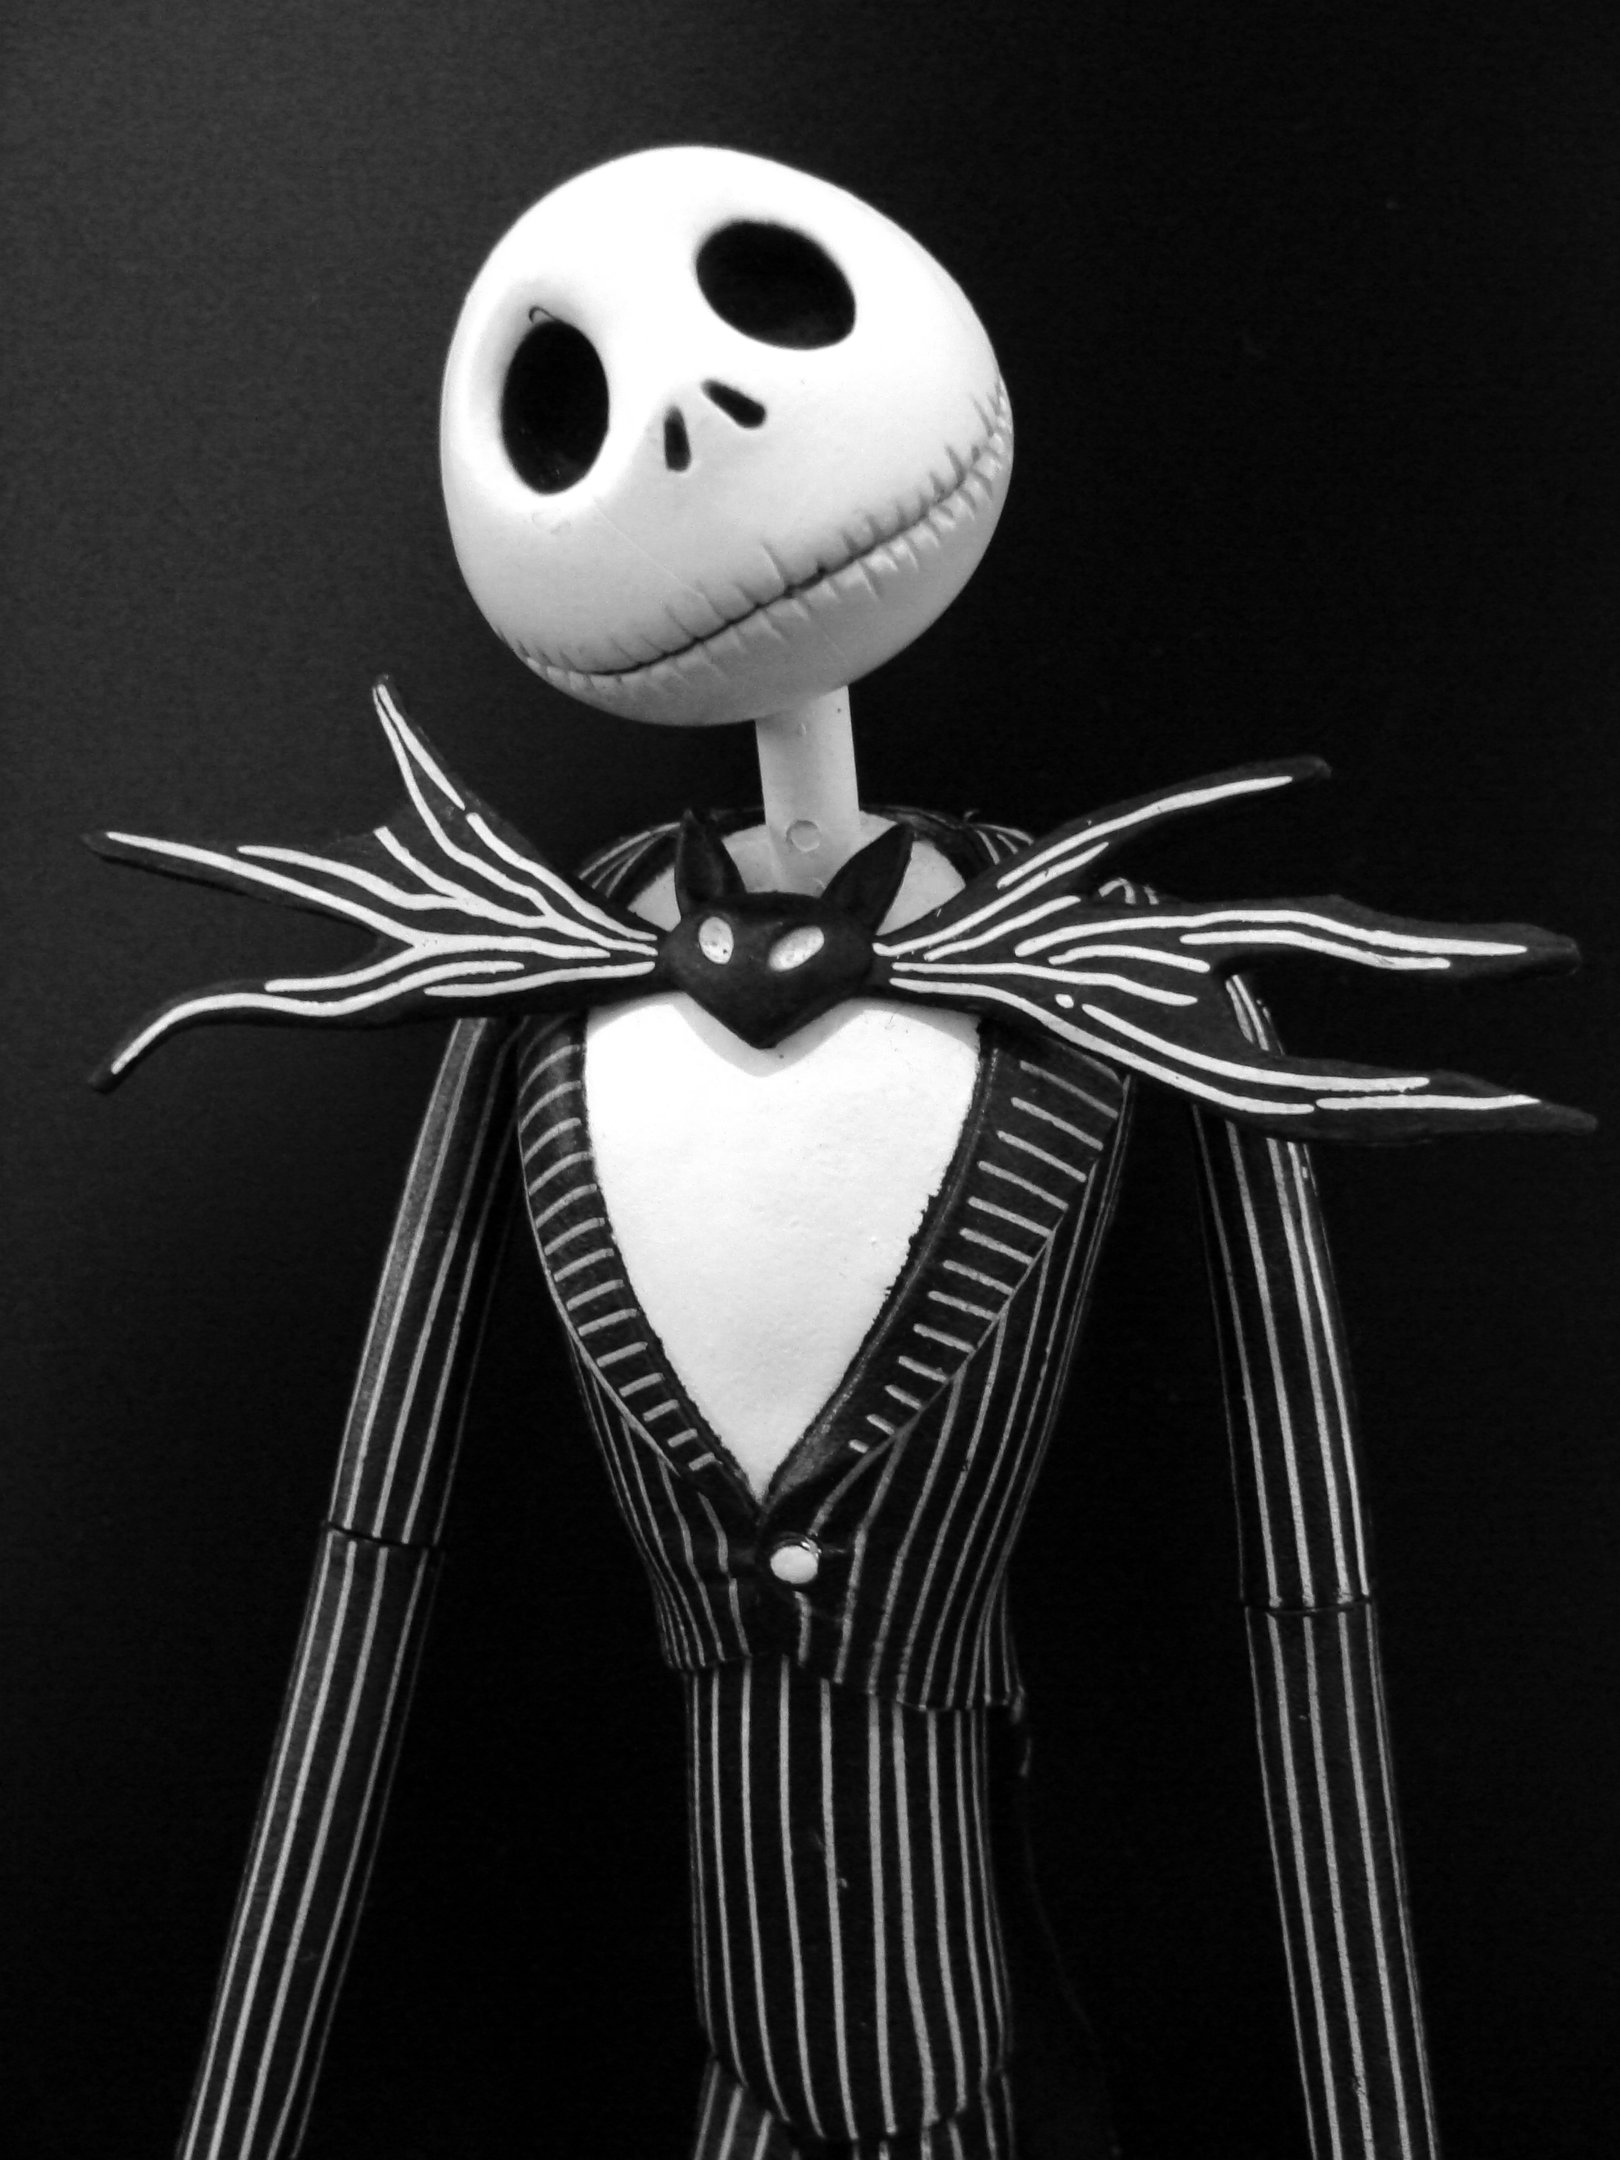Jack Skellington: (82, 146, 1608, 2160)
